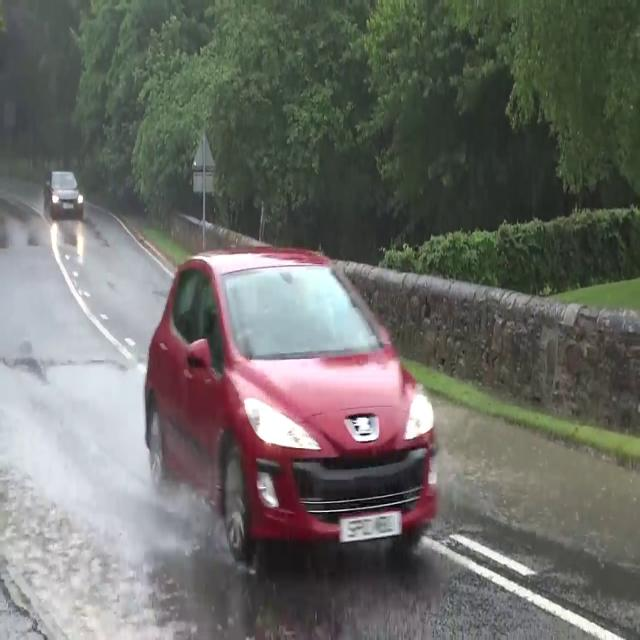license-plate-annotation: (338, 516, 405, 540)
